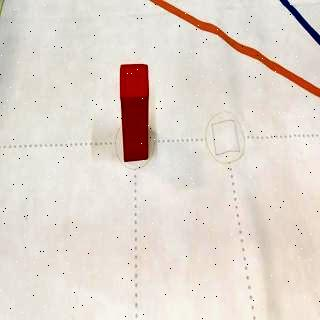redbox: (118, 60, 150, 162)
